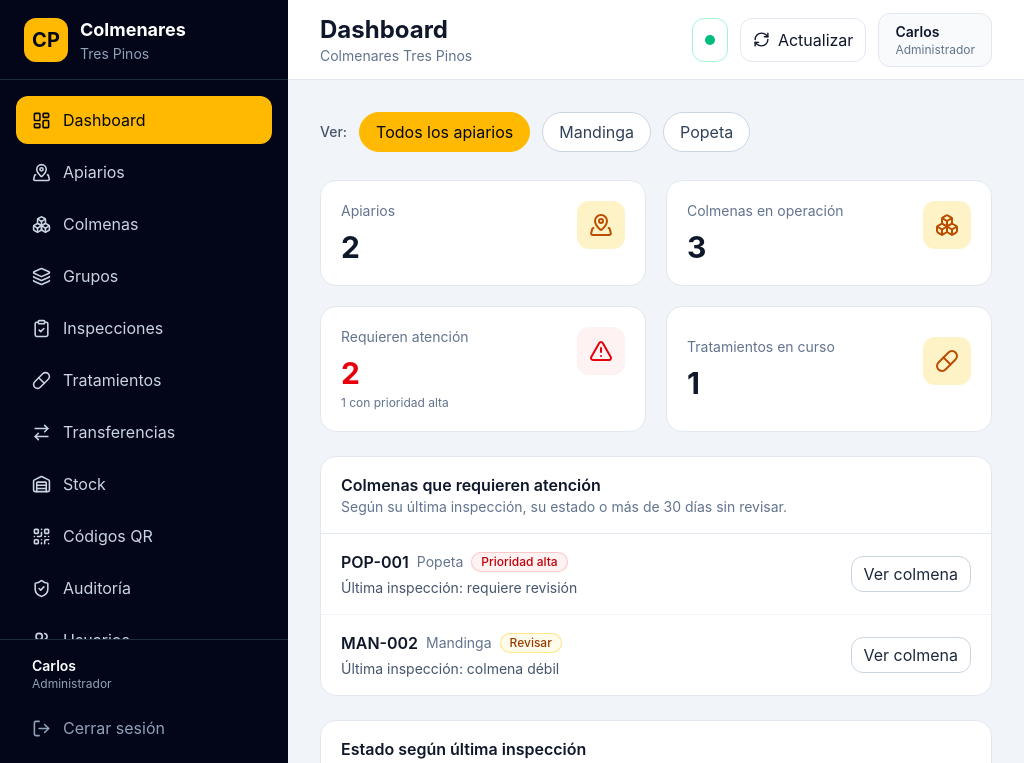
Scenario: al elegir un apiario, todo el panel muestra solo ese apiario
Expected: the heading "Colmenas que requieren atención" is shown, x1=341 y1=475 x2=601 y2=495
Click the radio button labelled "Mandinga" at [597, 132], box x1=542 y1=112 x2=651 y2=152
(page scrolled)
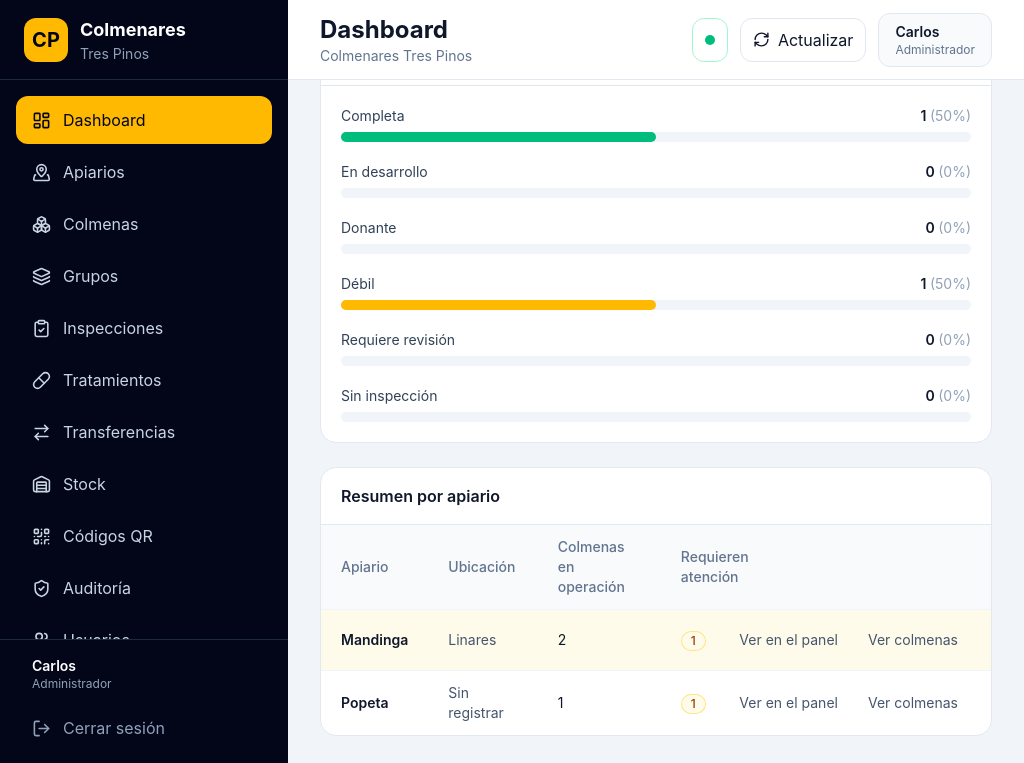
Expected: the text "Popeta" is shown, x1=321 y1=670 x2=428 y2=735
Result: the text "POP-001" is gone
